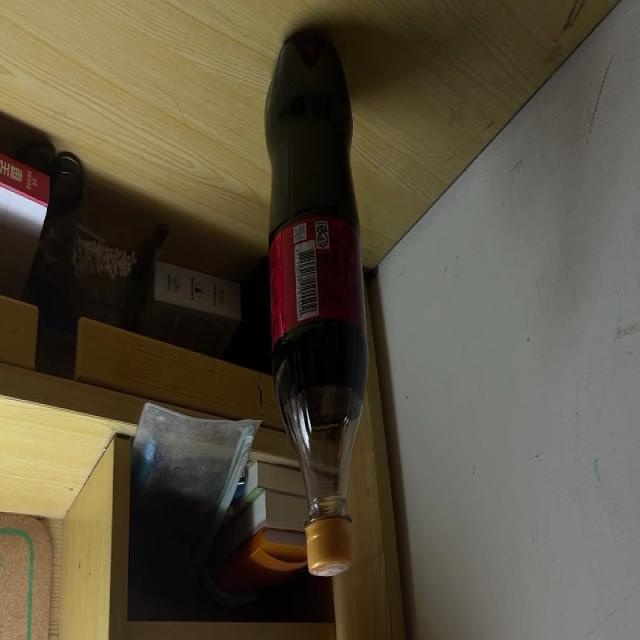Coca-Cola: (263, 34, 368, 576)
